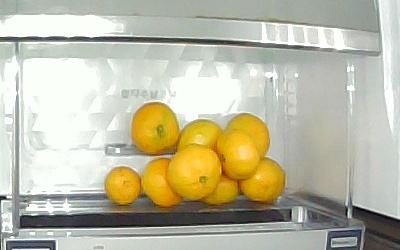tangerine: (166, 145, 221, 202), (131, 102, 180, 156), (217, 129, 260, 181), (225, 113, 270, 162), (140, 158, 184, 208), (241, 156, 286, 203), (178, 118, 223, 152), (104, 166, 140, 206), (201, 175, 240, 205)
